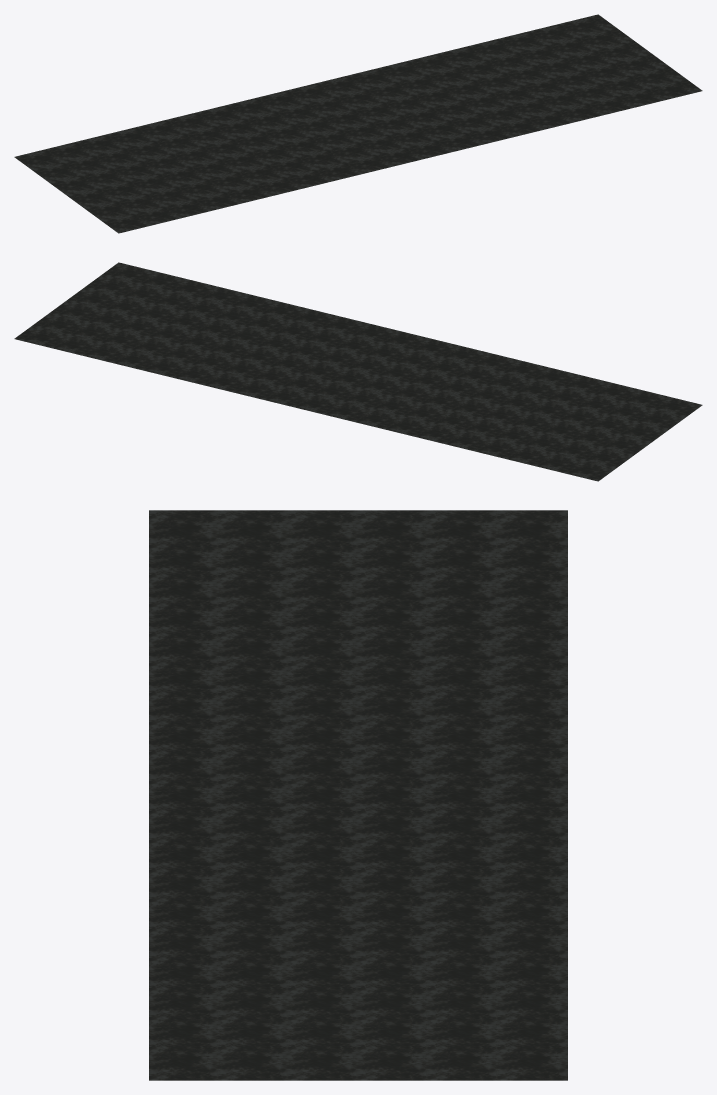
The model's file is floor_lakebed.glb.
3 renders of one model, top to bottom at view 1: azimuth 30°, elevation 25°; view 2: azimuth 150°, elevation 25°; view 3: azimuth 270°, elevation 25°, orthographic. The views are drawn at different scales.
Visible parts, largest first — view 1: floor_lakebed; view 2: floor_lakebed; view 3: floor_lakebed.
Part boxes in pixels (x1=…): floor_lakebed: x1=14, y1=14, x2=702, y2=233; floor_lakebed: x1=14, y1=262, x2=702, y2=481; floor_lakebed: x1=149, y1=510, x2=567, y2=1080.
Size of the model in its own units: 116 by 0 by 36.
1 material, 1 textured.
